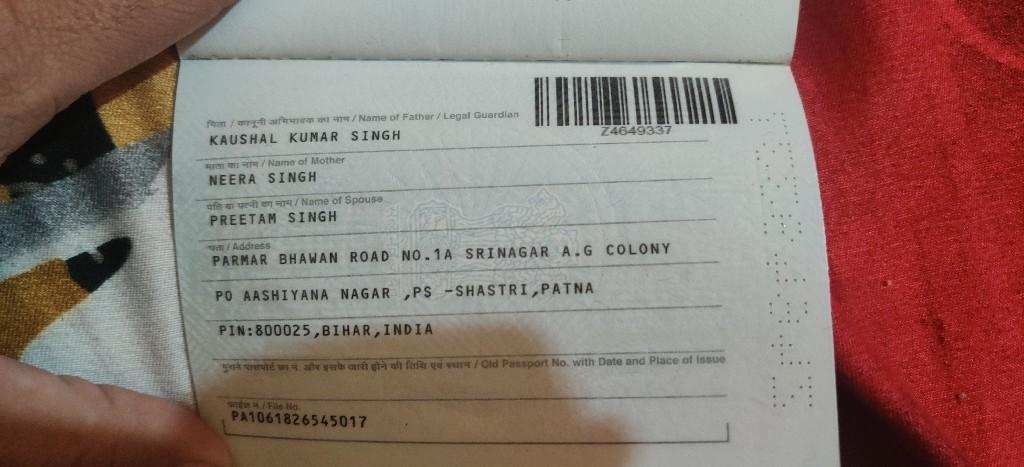File_no: (225, 407, 392, 438)
address: (199, 232, 678, 347)
father_name: (203, 128, 411, 151)
mother_name: (204, 168, 331, 189)
passport_no: (598, 119, 676, 144)
spouse_name: (200, 209, 342, 232)
